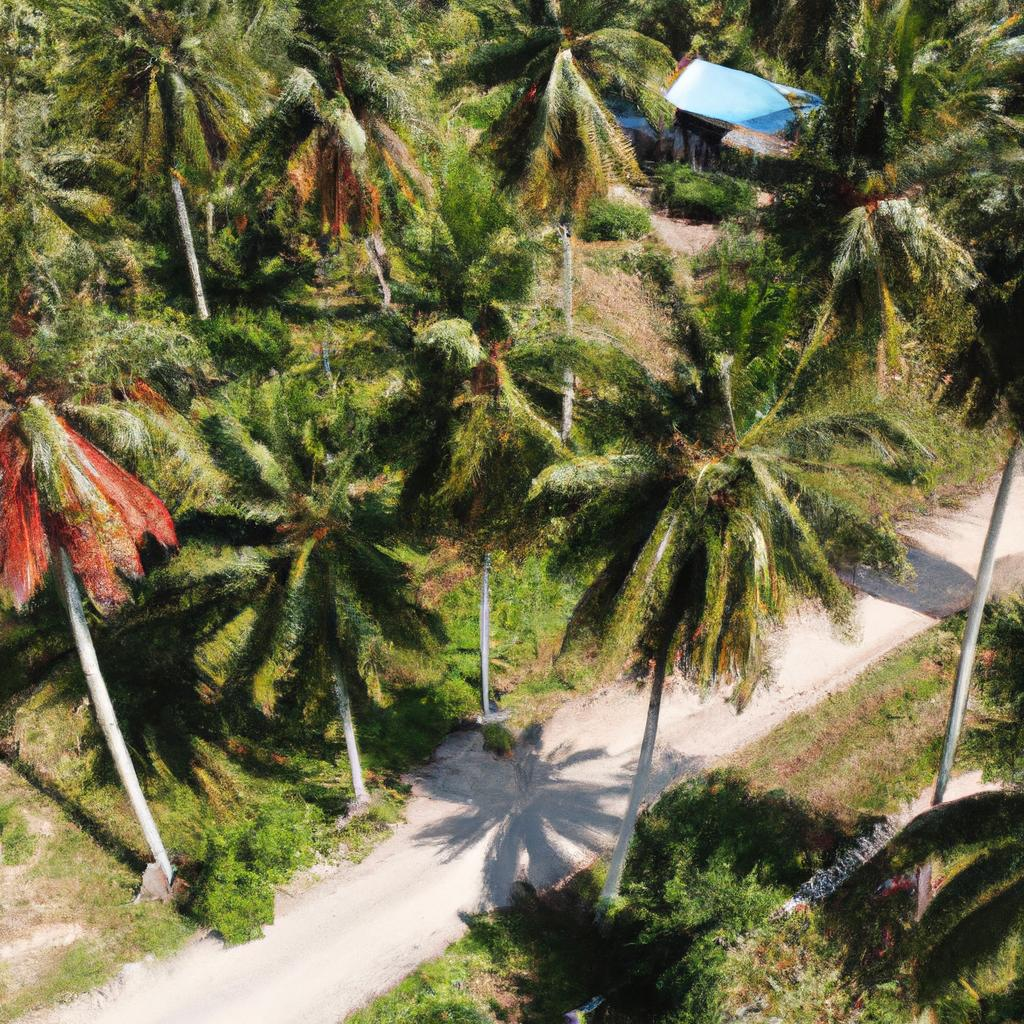coconut_tree: (511, 269, 978, 712), (109, 261, 463, 723)
